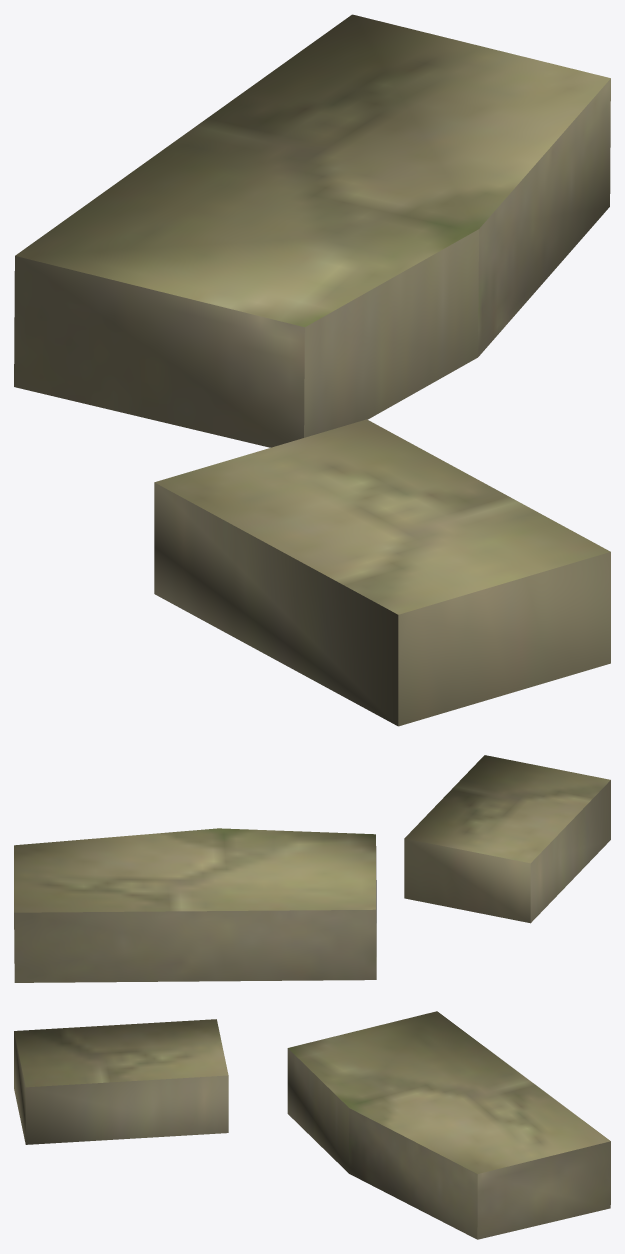
File: shitou_b.fbx
3 renders of one model, top to bottom at view 1: azimuth 30°, elevation 25°; view 2: azimuth 150°, elevation 25°; view 3: azimuth 270°, elevation 25°, orthographic. The views are drawn at different scales.
Visible parts, largest first — view 1: shitou_b; view 2: shitou_b; view 3: shitou_b.
Part boxes in pixels (box(x1,y1,x2,y2)): shitou_b: box(14, 14, 610, 726); shitou_b: box(14, 755, 610, 982); shitou_b: box(14, 1011, 610, 1239).
Size of the model in its own units: 1.06 by 0.2341 by 1.5.
